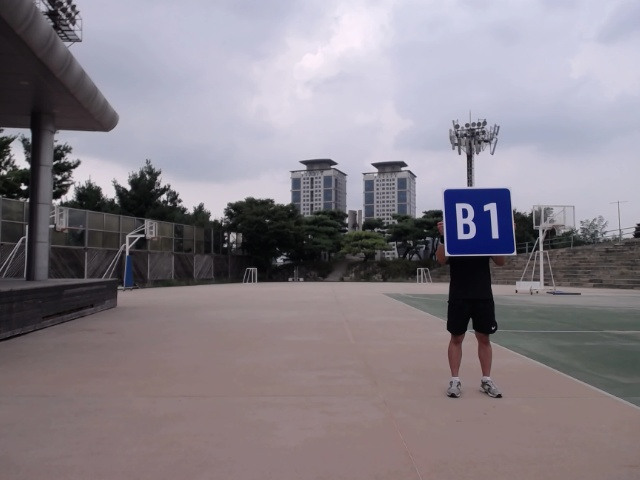delivery_b1: (442, 187, 516, 256)
